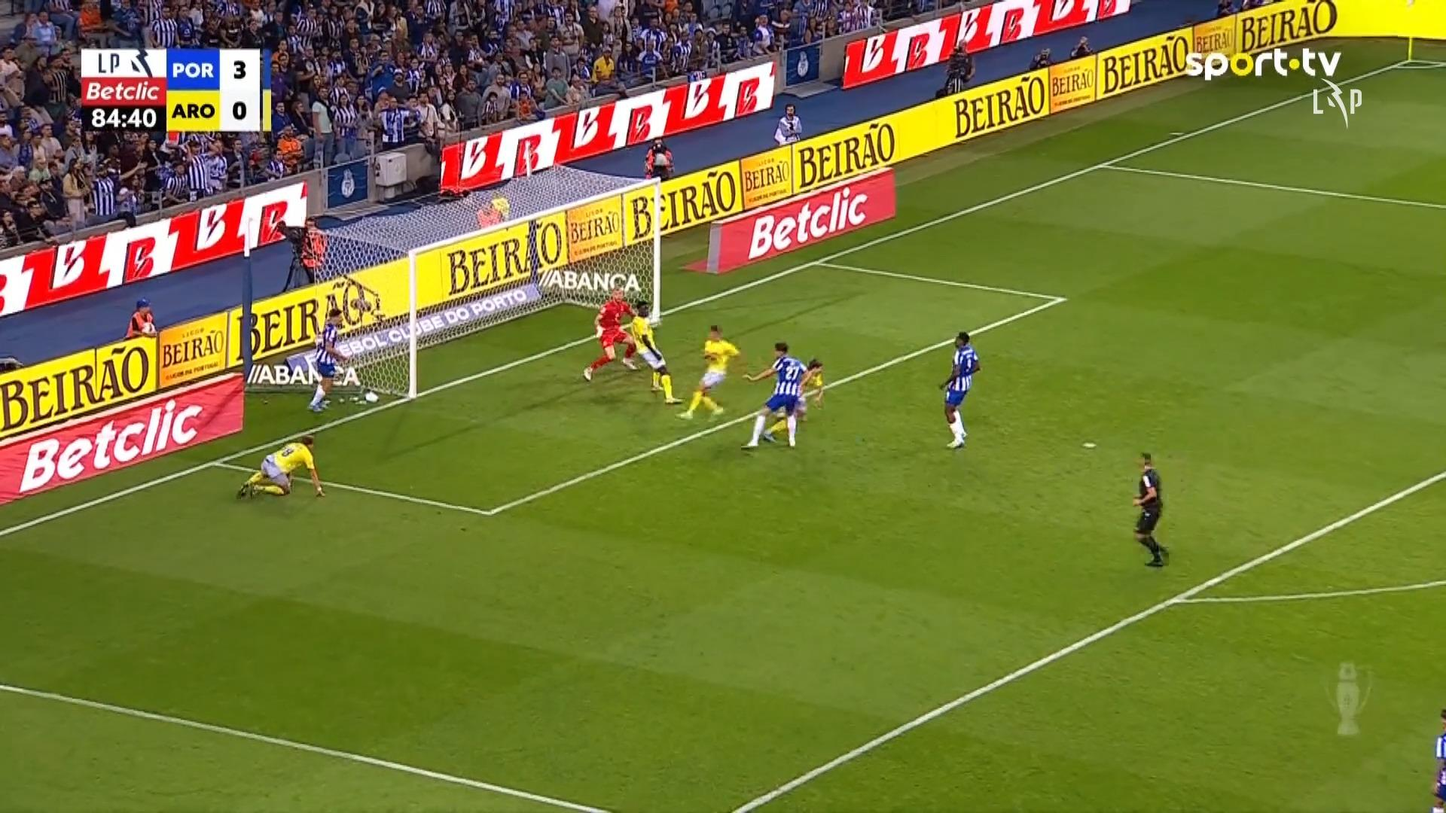goalkeeper: (581, 288, 639, 382)
player: (740, 341, 807, 449), (675, 323, 740, 420), (625, 300, 684, 405), (236, 434, 325, 501), (760, 357, 824, 444), (937, 330, 980, 449), (307, 307, 352, 413), (1429, 707, 1445, 811)
referee: (1131, 452, 1169, 567)
